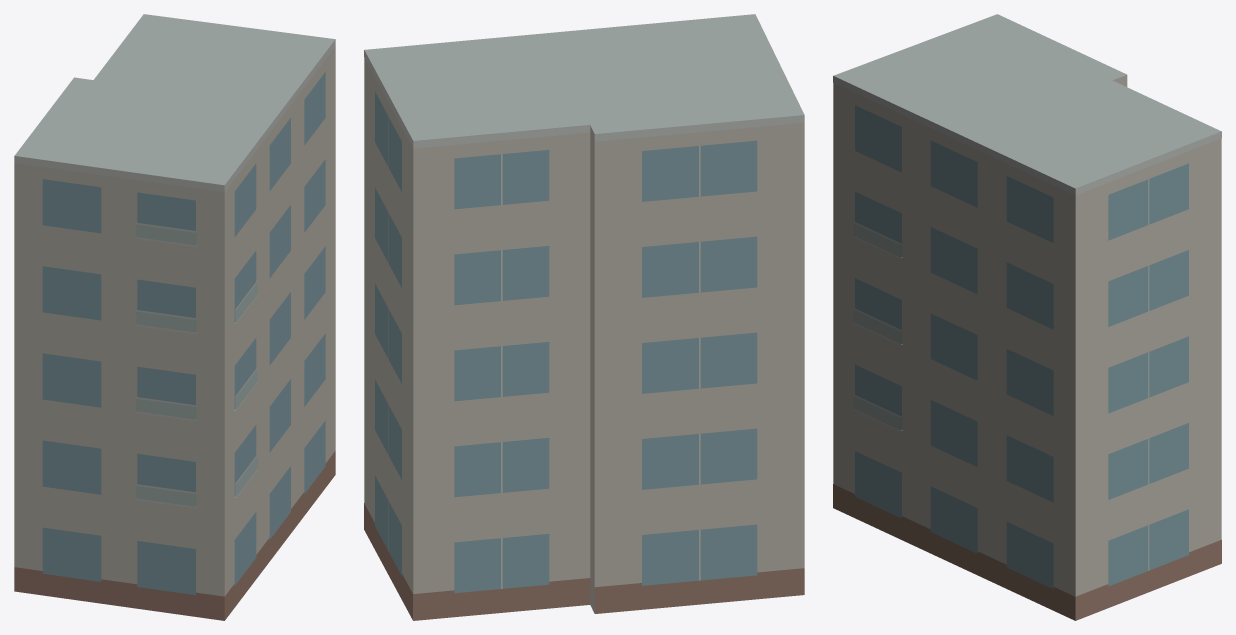
File: survey-upis-32929762.glb
3 views of the same model, side by side, from view 1: azimuth 30°, elevation 25°; view 2: azimuth 150°, elevation 25°; view 3: azimuth 270°, elevation 25° (orthographic). The views are drawn at different scales.
Visible parts, largest first — view 1: survey-upis-32929762.tmp; view 2: survey-upis-32929762.tmp; view 3: survey-upis-32929762.tmp.
Part boxes in pixels (x1,y1,x2,y2): survey-upis-32929762.tmp: (14, 14, 335, 620); survey-upis-32929762.tmp: (364, 14, 804, 620); survey-upis-32929762.tmp: (833, 14, 1221, 620).
Size of the model in its own units: 13.21 by 15.25 by 12.43.
